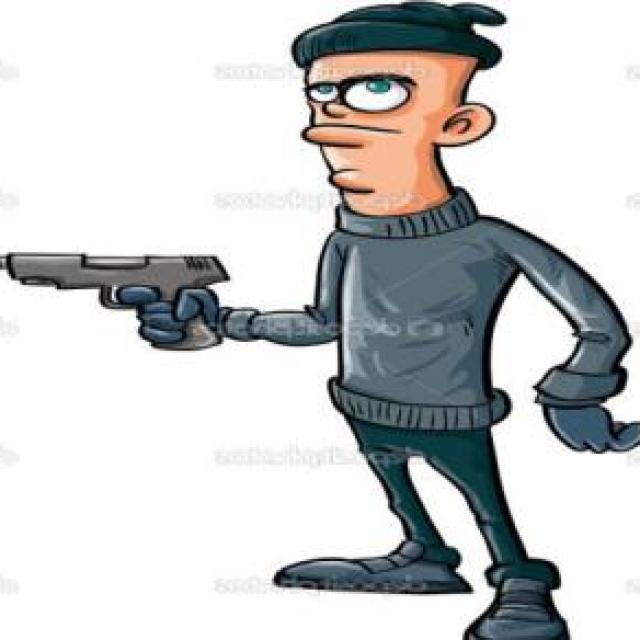pistol: (0, 248, 237, 355)
